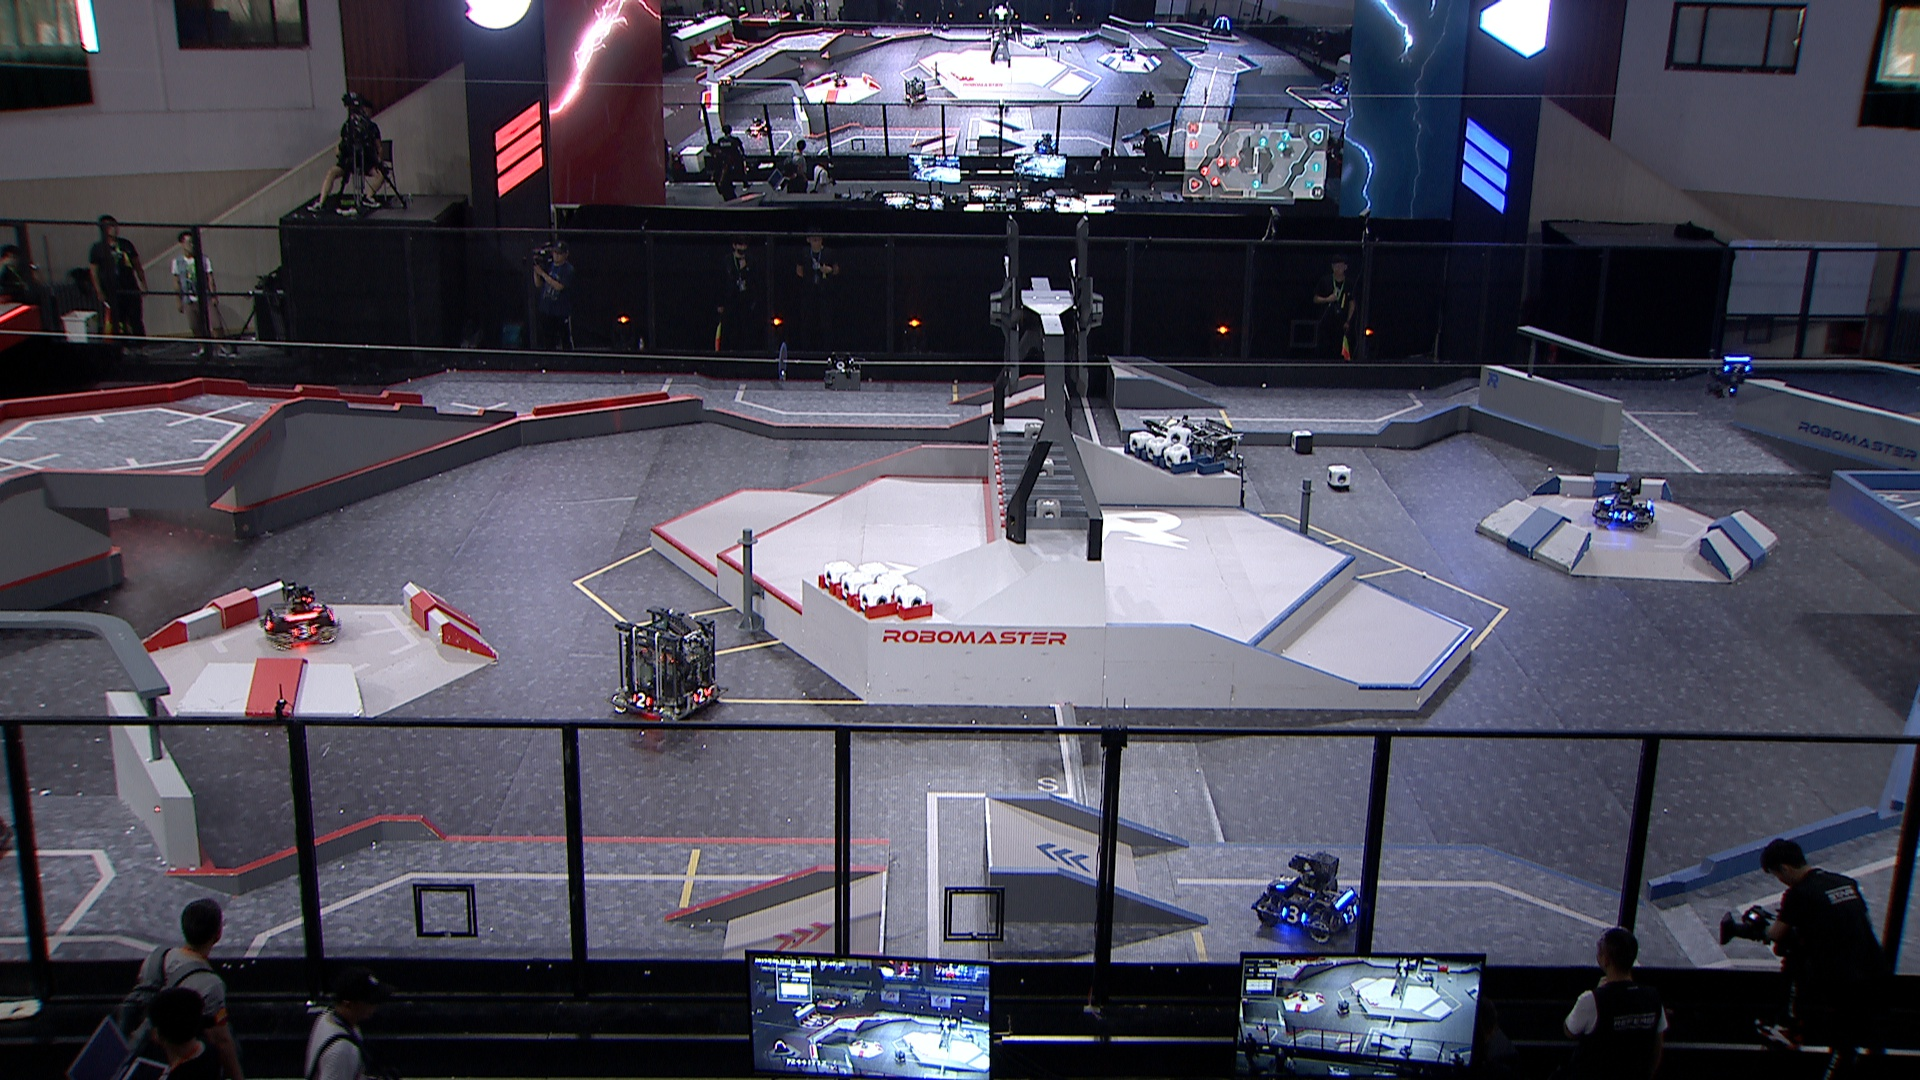armor: (1278, 905, 1309, 926), (290, 624, 316, 640), (1273, 874, 1296, 891), (690, 684, 709, 704), (1342, 903, 1360, 926), (629, 692, 651, 709), (1721, 363, 1751, 375), (1610, 509, 1634, 524), (258, 615, 276, 633), (306, 600, 324, 612)
car: (604, 608, 731, 728), (1139, 415, 1247, 520), (1250, 849, 1366, 945), (256, 580, 339, 651), (1592, 476, 1658, 531)
ignore: (902, 76, 928, 105), (1207, 15, 1234, 38), (745, 116, 774, 138), (1033, 131, 1059, 154), (1328, 73, 1352, 95), (832, 71, 849, 88), (1120, 45, 1135, 62)
watcher: (1702, 347, 1754, 400)
